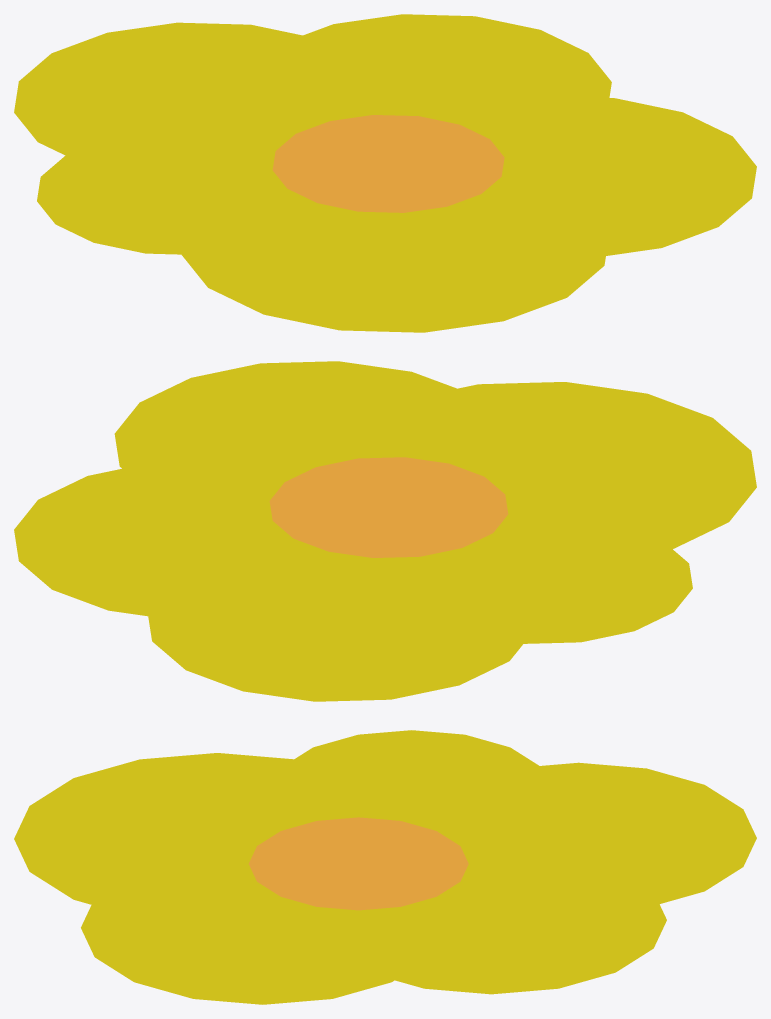
Rendered from Flower2.fbx.
3 renders of one model, top to bottom at view 1: azimuth 30°, elevation 25°; view 2: azimuth 150°, elevation 25°; view 3: azimuth 270°, elevation 25°, orthographic. The views are drawn at different scales.
Visible parts, largest first — view 1: Circle.001; view 2: Circle.001; view 3: Circle.001.
Boxes of the visible parts, x1=… form: Circle.001: x1=14, y1=14, x2=756, y2=332; Circle.001: x1=14, y1=361, x2=756, y2=701; Circle.001: x1=14, y1=730, x2=756, y2=1004.
Bounding box in the file's own units: 0.9596 × 0.0102 × 1.1.
